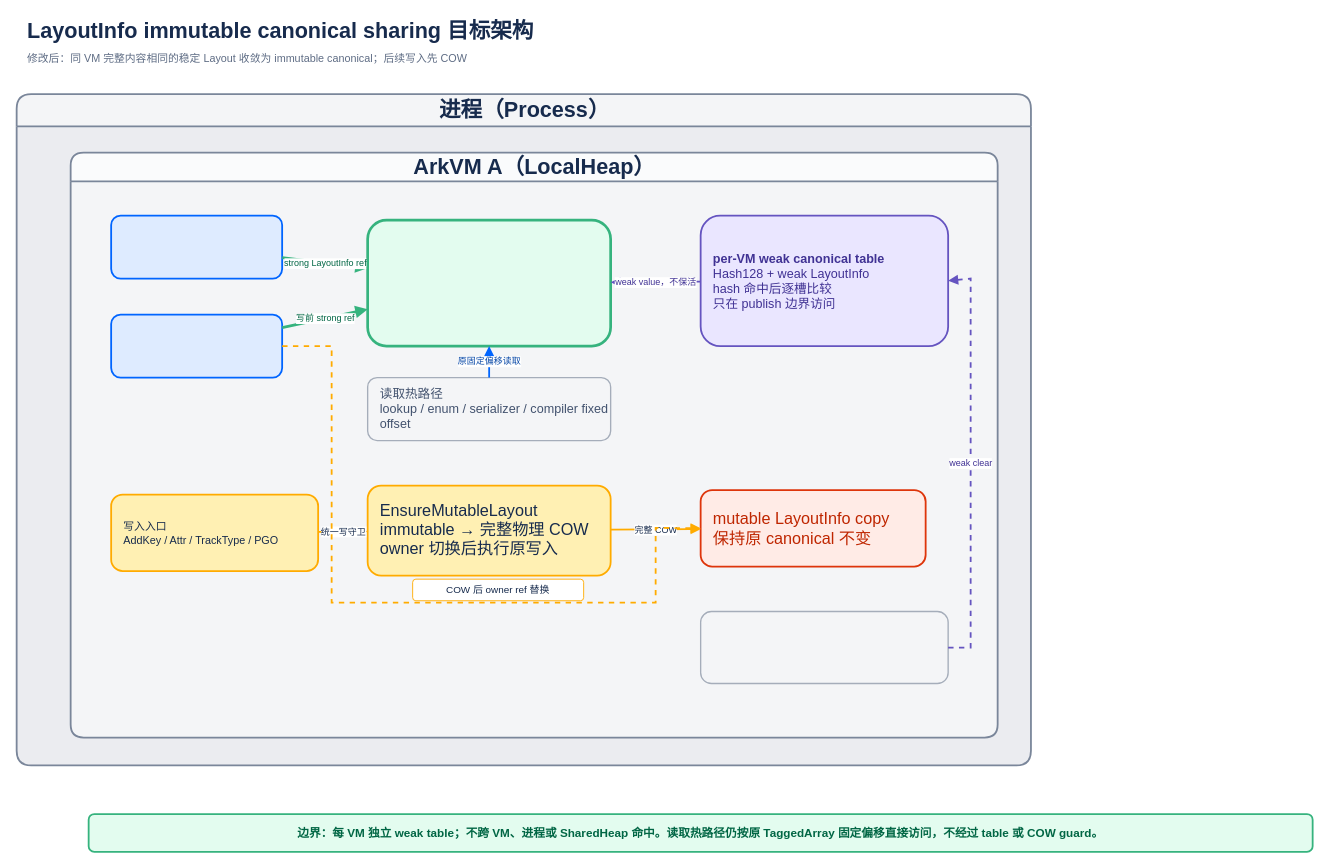
Some shapes in this 1328 by 868 pixel diagram are drawn without their labels. Here are the shapes that lost their labels. From the top down, the box of each, then its label:
(110, 214, 283, 279): JSHClass A proto=P1, layout={x,y}
(366, 218, 612, 347): canonical LayoutInfo IMMUTABLE_LAYOUT_INFO [x, attrX] [y, attrY] 完整物理槽只读
(110, 313, 283, 378): JSHClass B proto=P2, layout={x,y}
(700, 610, 948, 684): GC weak processing 无 HClass owner 后清 weak entry / tombstone
